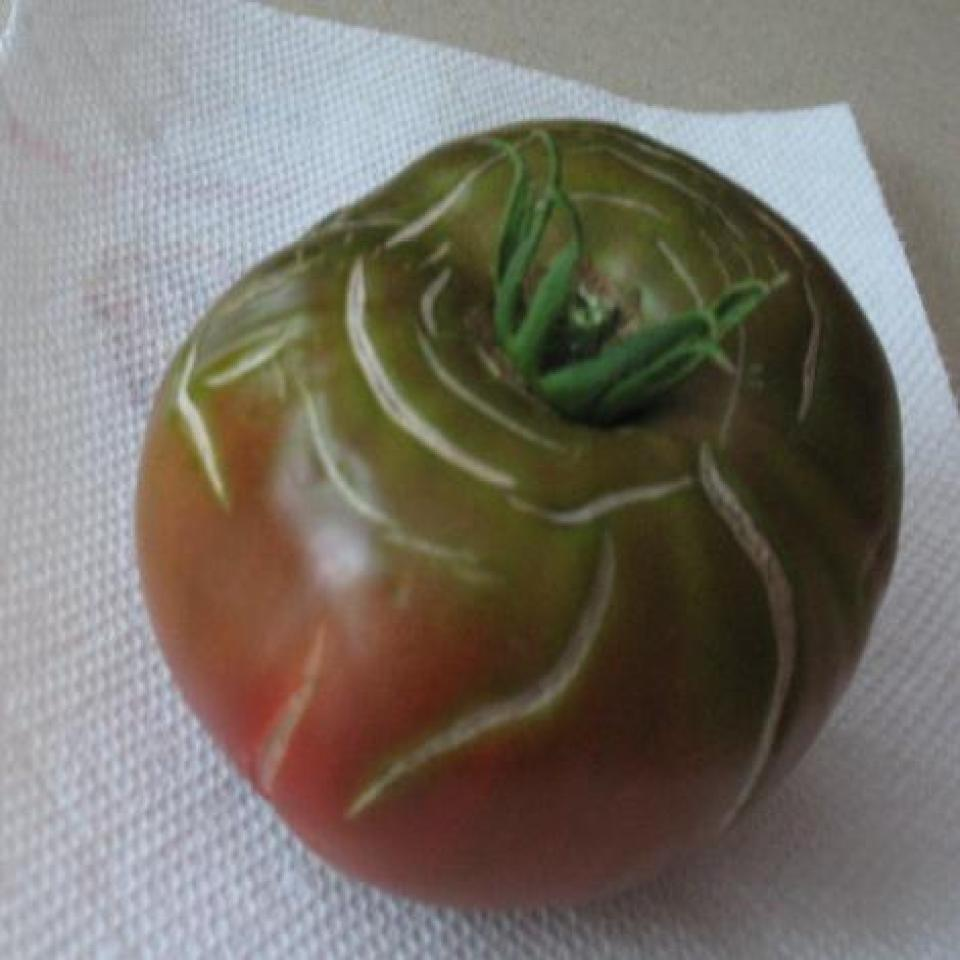Cracking: (558, 116, 844, 426), (162, 312, 477, 567), (334, 222, 523, 518), (352, 130, 569, 257), (507, 447, 708, 536)
